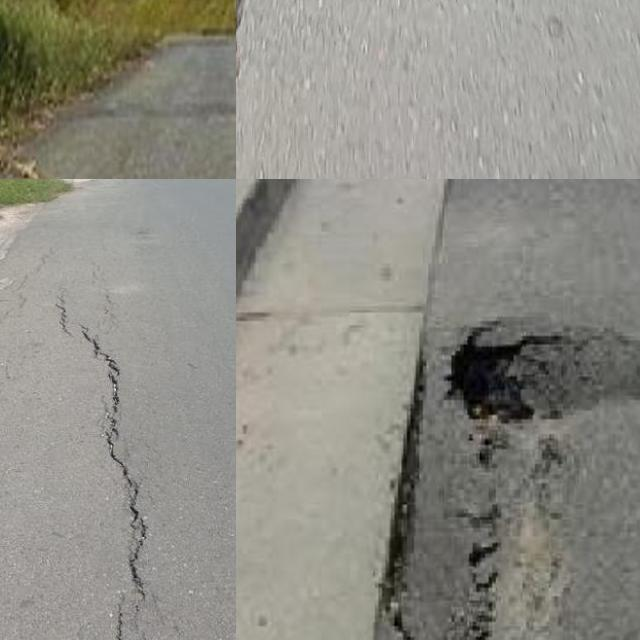Lubang: (396, 380, 499, 640), (442, 328, 640, 429)
Memanjang: (51, 301, 154, 640)
